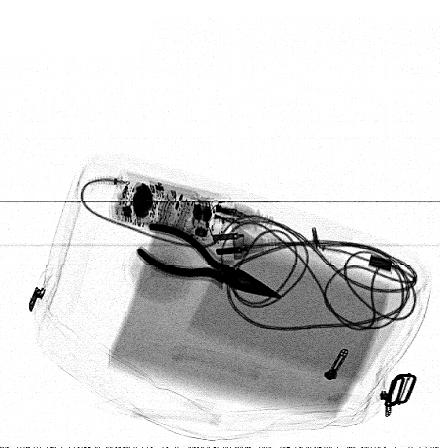Pliers: (133, 222, 282, 300)
